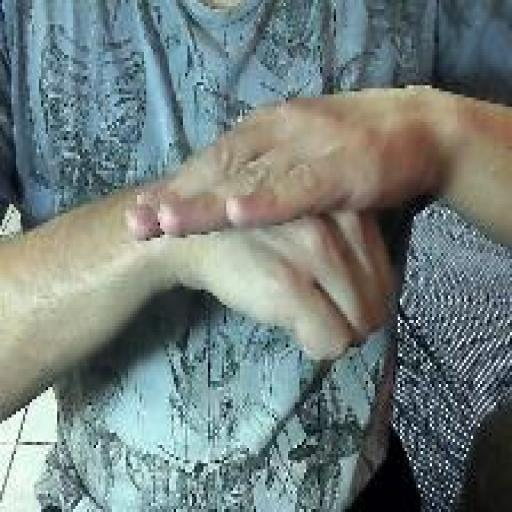Inu -dog-: (122, 90, 399, 370)
